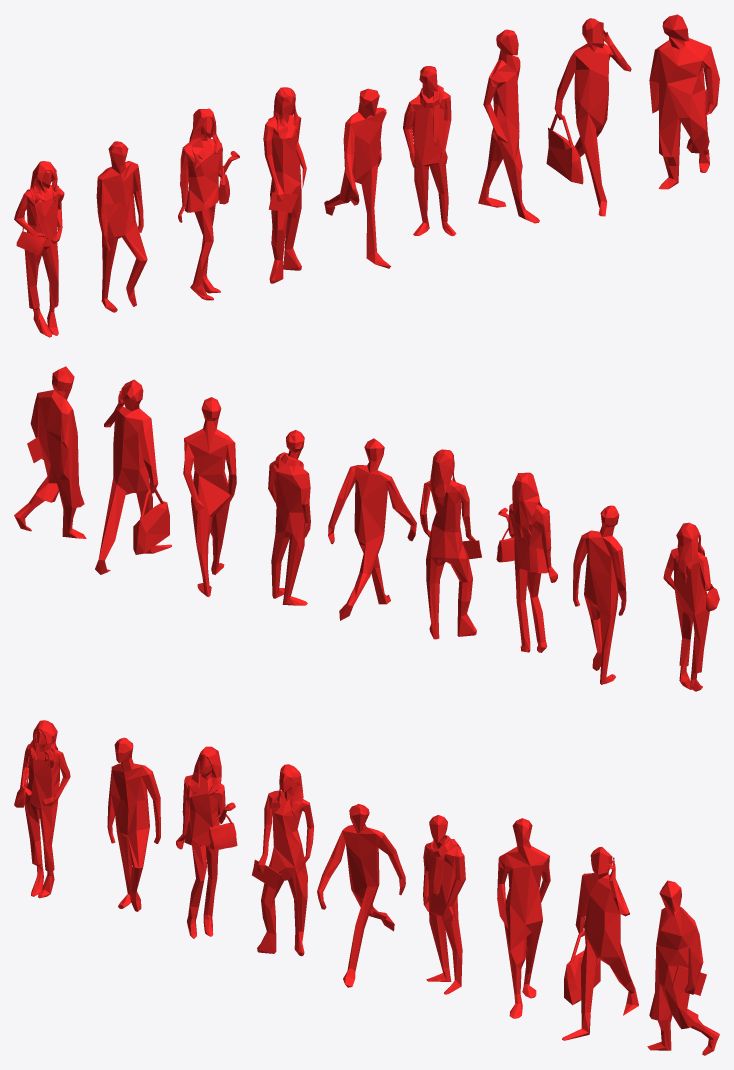
File: LowPolyPeople_3.FBX
3 views of the same model, one above another, from view 1: azimuth 30°, elevation 25°; view 2: azimuth 150°, elevation 25°; view 3: azimuth 330°, elevation 25° (orthographic).
Parts seen in each view (by area): view 1: Line001, Line007, Group1, Line013, Line015, Line009, Line008, Line003, Hulu001; view 2: Line007, Group1, Line003, Line001, Line013, Hulu001, Line008, Line009, Line015; view 3: Line007, Group1, Line001, Line003, Line013, Line008, Line015, Hulu001, Line009.
Part boxes in pixels (box(x1,y1,x2,y2)): Line001: box(649, 14, 719, 189); Line007: box(546, 18, 631, 216); Group1: box(263, 87, 306, 283); Line013: box(178, 108, 239, 300); Line015: box(14, 161, 64, 337); Line009: box(403, 66, 456, 235); Line008: box(96, 141, 147, 312); Line003: box(478, 29, 539, 223); Hulu001: box(324, 88, 390, 268); Line007: box(95, 379, 171, 574); Group1: box(419, 449, 481, 639); Line003: box(183, 397, 236, 596); Line001: box(14, 366, 86, 538); Line013: box(496, 472, 557, 652); Hulu001: box(328, 438, 416, 620); Line008: box(573, 505, 626, 684); Line009: box(268, 430, 310, 605); Line015: box(663, 522, 719, 691); Line007: box(562, 847, 638, 1040); Group1: box(252, 764, 313, 956); Line001: box(647, 880, 719, 1055); Line003: box(497, 818, 550, 1018); Line013: box(176, 746, 237, 938); Line008: box(107, 737, 160, 911); Line015: box(14, 720, 70, 898); Hulu001: box(317, 804, 405, 987); Line009: box(423, 815, 465, 994).
Bounding box in the file's own units: 1042 × 266 × 136.
